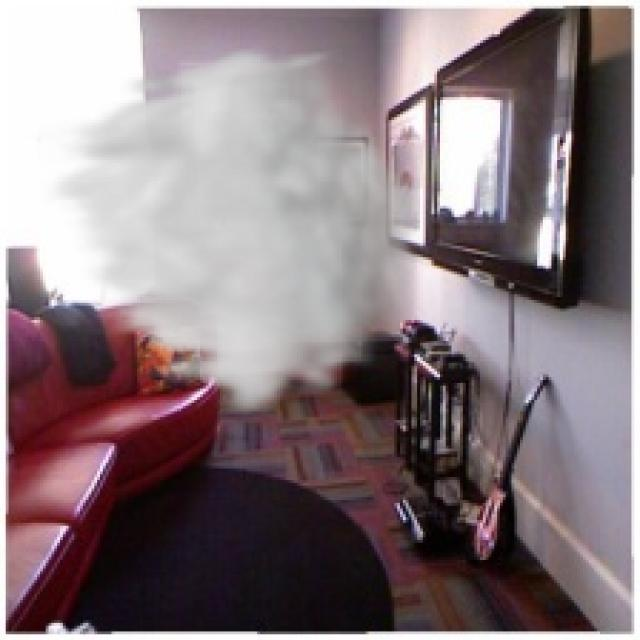smoke: (37, 43, 426, 420)
